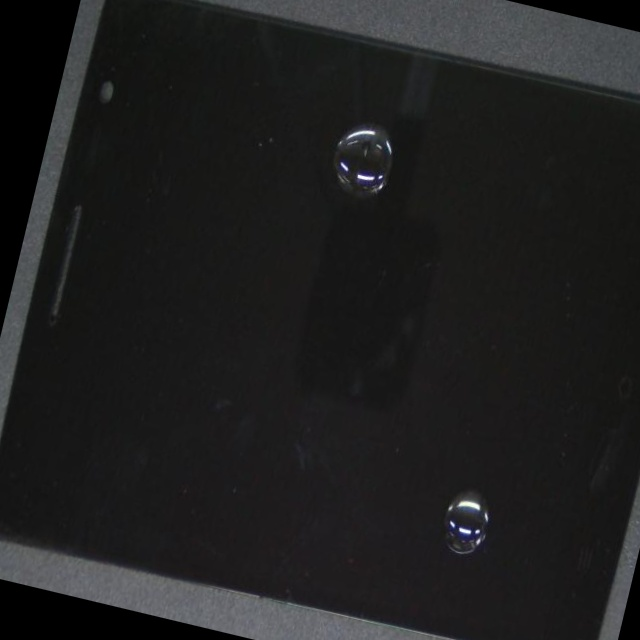oil: (212, 208, 640, 640), (234, 56, 571, 267)
